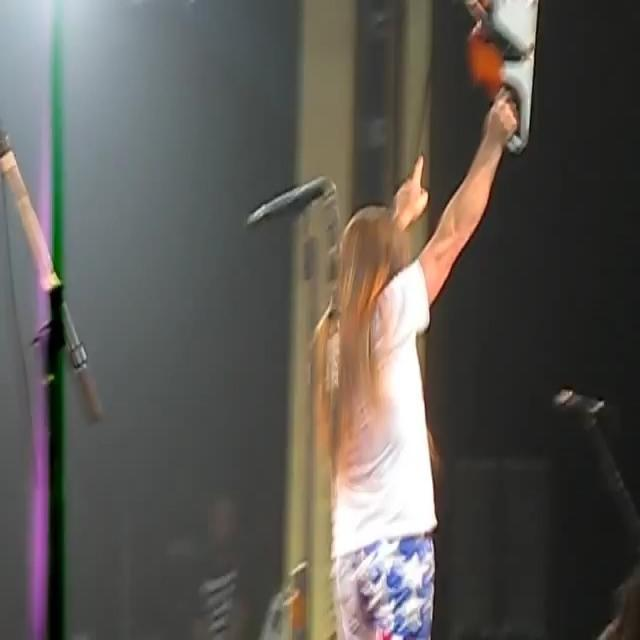Chainsaw: (444, 0, 560, 165)
